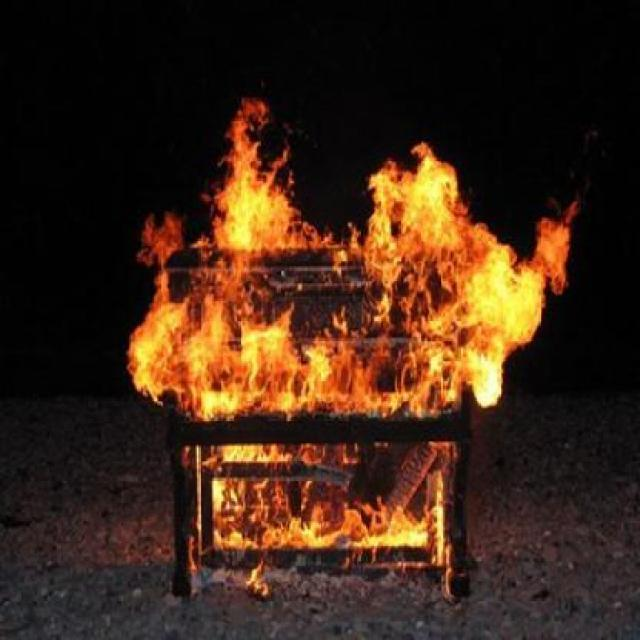Fire: (125, 96, 578, 414), (215, 482, 432, 546)
